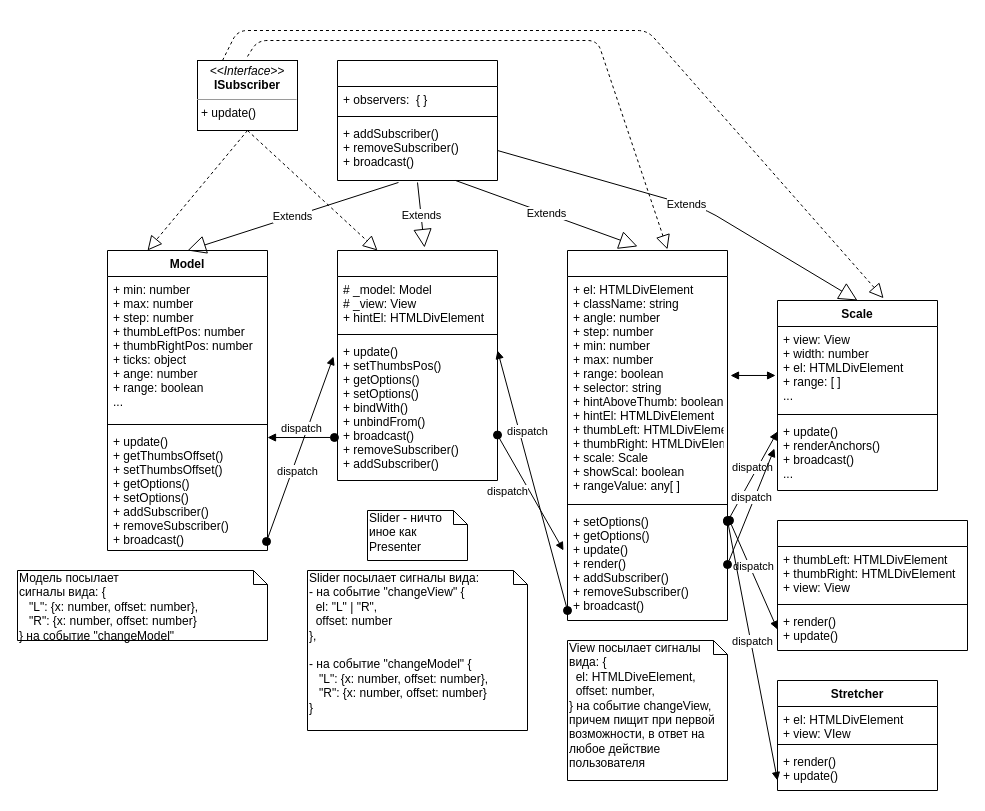
Some shapes in this 985 by 811 pixel diagram are drawn without their labels. Here are the shapes that lost their labels. From the top down, the box of each, then its label:
(336, 60, 498, 180): EventObserver
(336, 250, 498, 480): Slider
(566, 250, 728, 620): View
(776, 520, 968, 650): ThumbsTwinsBrothers
